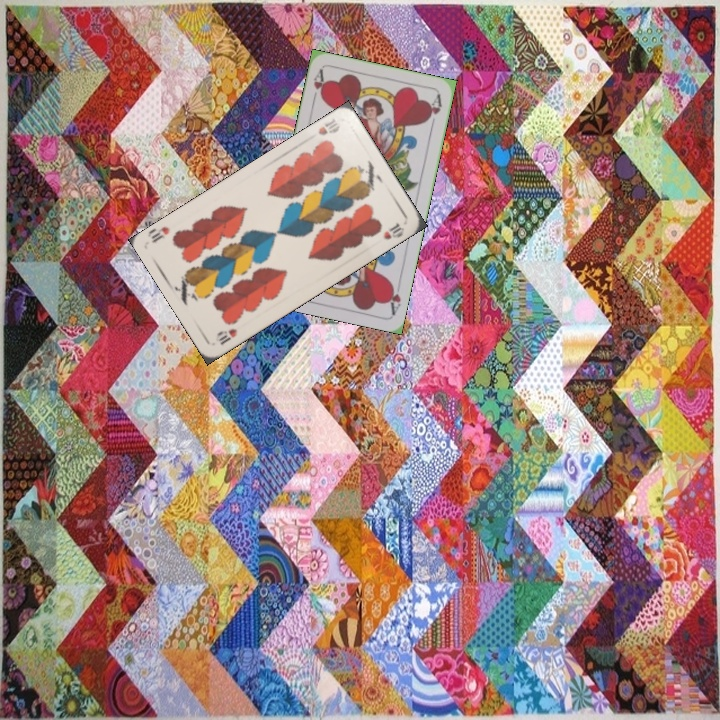H10: (314, 114, 343, 138), (211, 324, 239, 348)
HA: (308, 66, 328, 106), (384, 278, 403, 316)
